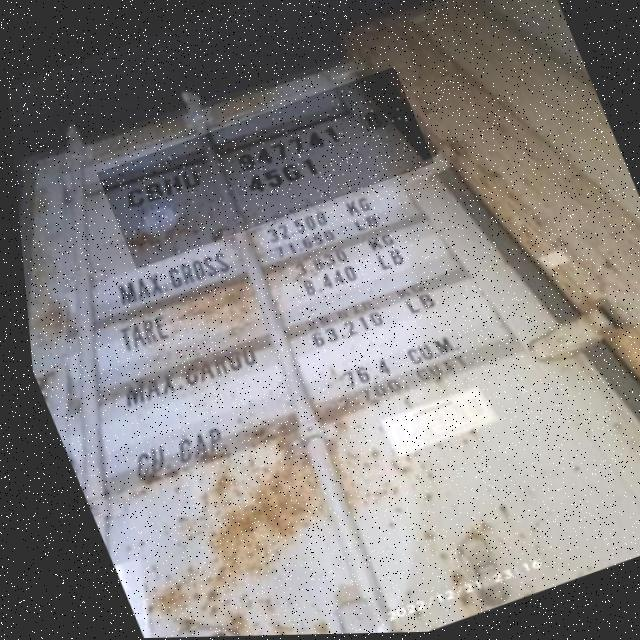container_number_h: (87, 68, 439, 271)
